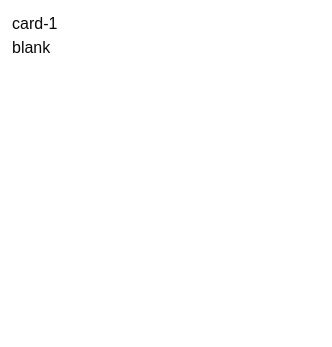
Test: regression guard — existing menus with the global guard installed › T-ui-ctxmenu-view-05 [Business rule] gallery AssetContextMenu still opens
Right-click the text "card-1" at (35,24), box [12, 15, 57, 32]
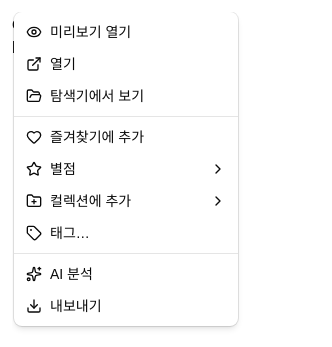
Check: the menu item "미리보기 열기" is shown, box [26, 24, 131, 40]
